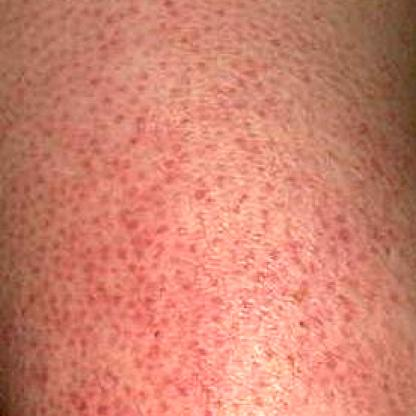Chicken Skin: (0, 2, 414, 410)
